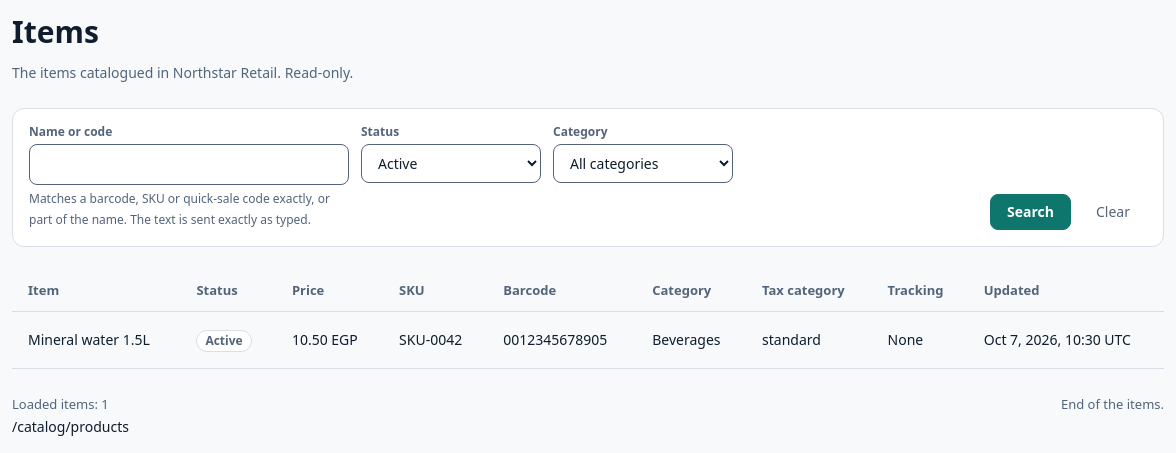
Test: CatalogProductList (RT-765, CAT-C1a) › filters › the search text is sent verbatim: no trim, leading zeros and spaces kept
Type " 0012 " into the field labelled "Name or code" at [189, 165], box [29,144,349,186]
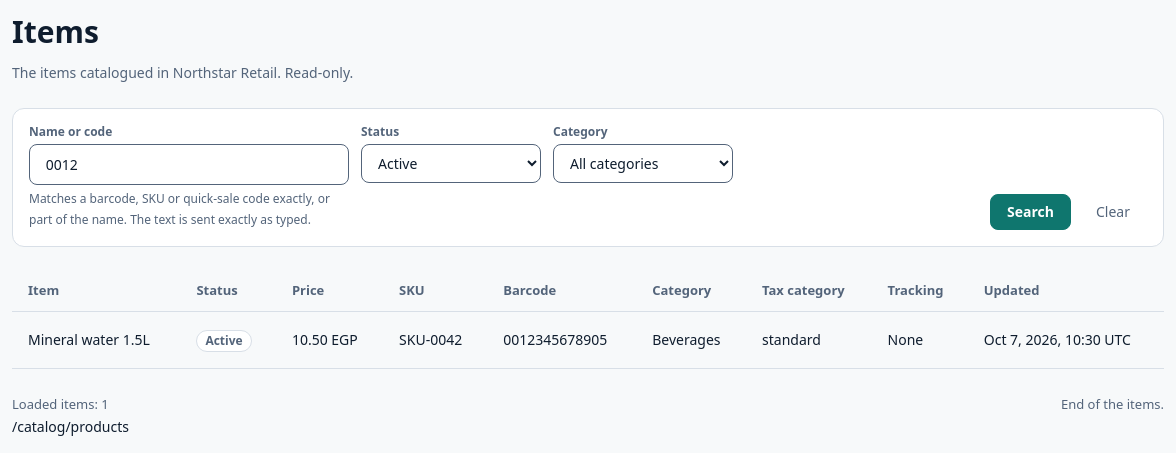
Click the button "Search" at [1031, 212], box [990,194,1071,230]
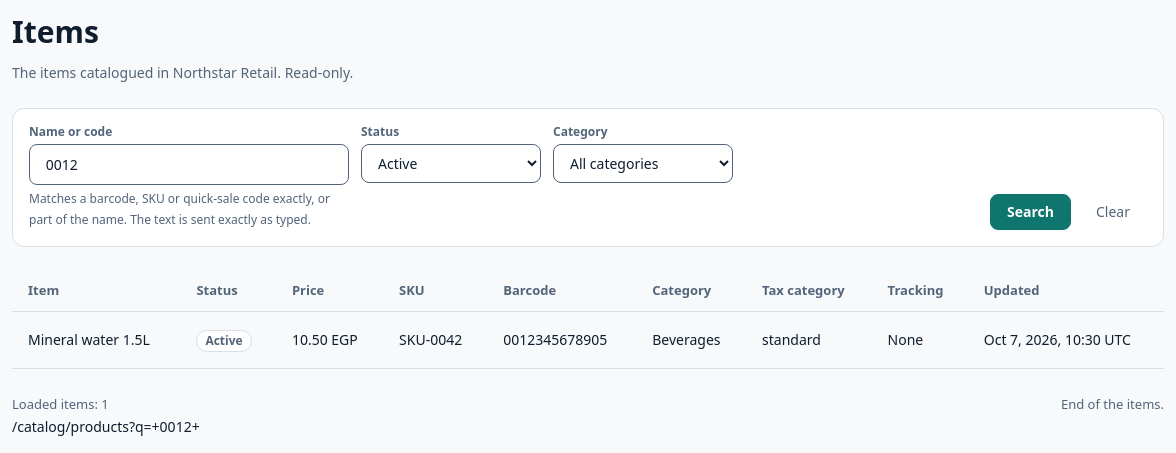
Expected: the text with test id "location" reads "/catalog/products?q=+0012+", [12,417,200,436]
